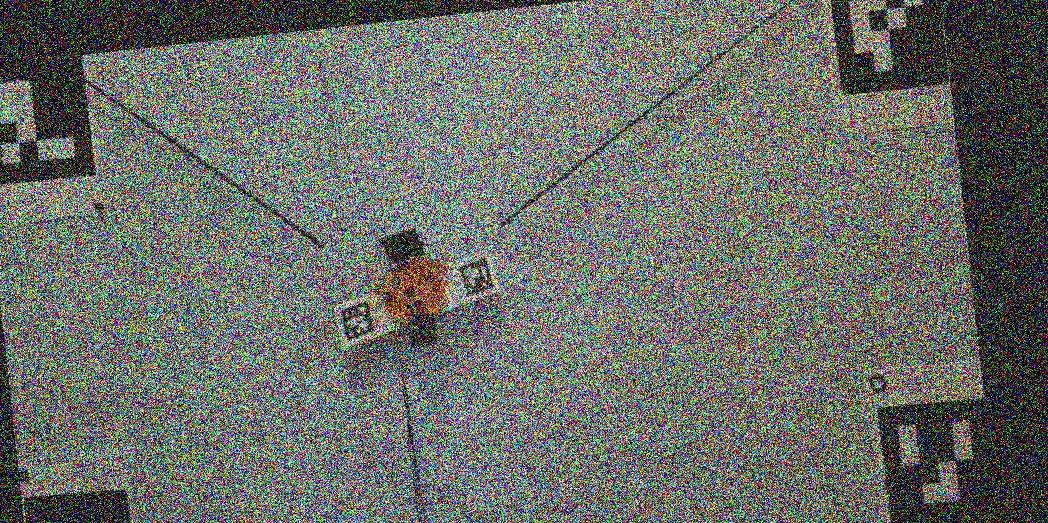robot: (375, 230, 452, 348)
